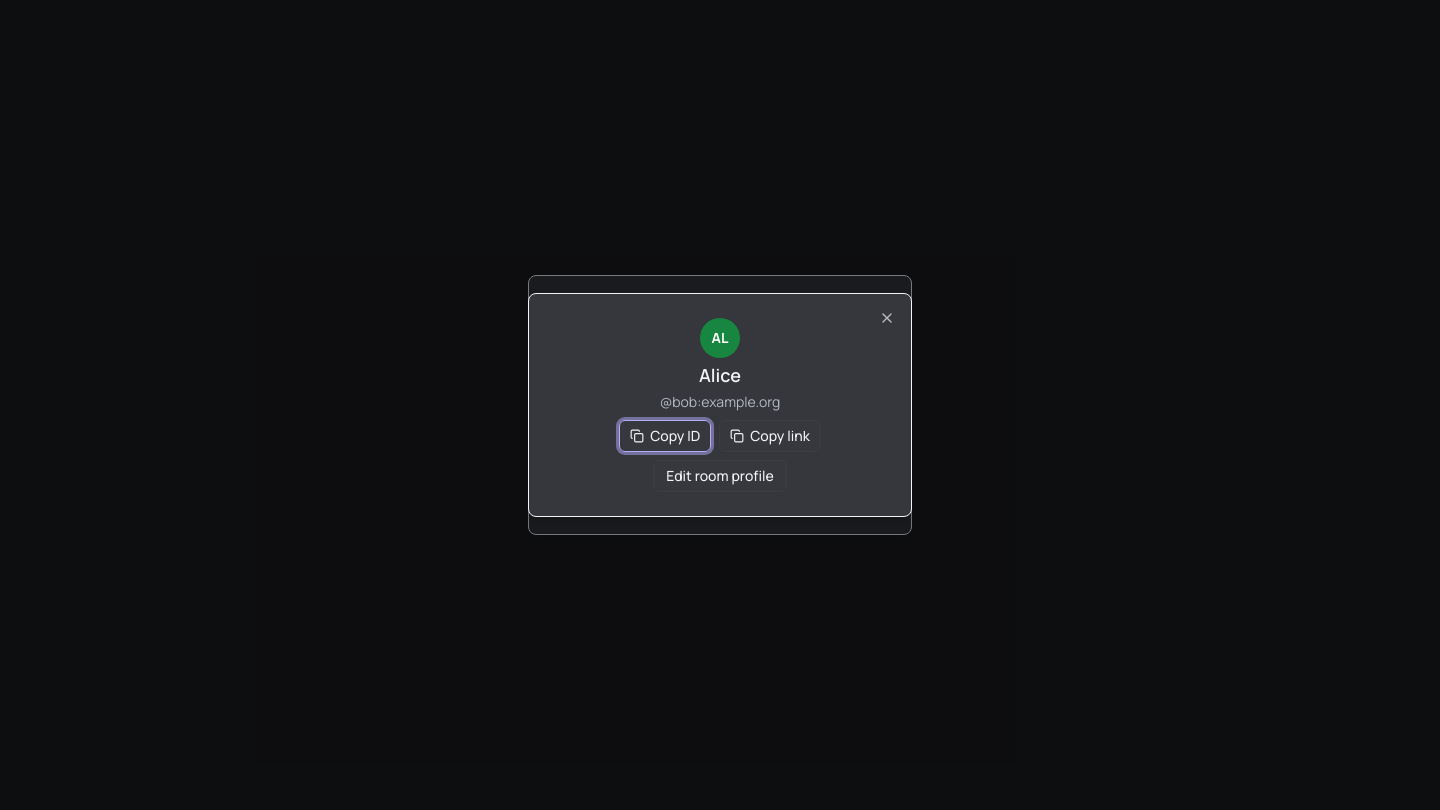
MessagePillProfileDialog › reports profile loading and room-profile update failures
Check: the text "Profile details could not be loaded." is shown, box [609,442,831,462]
Click the button "Edit room profile".
click(720, 476)  # box [653,460,787,492]
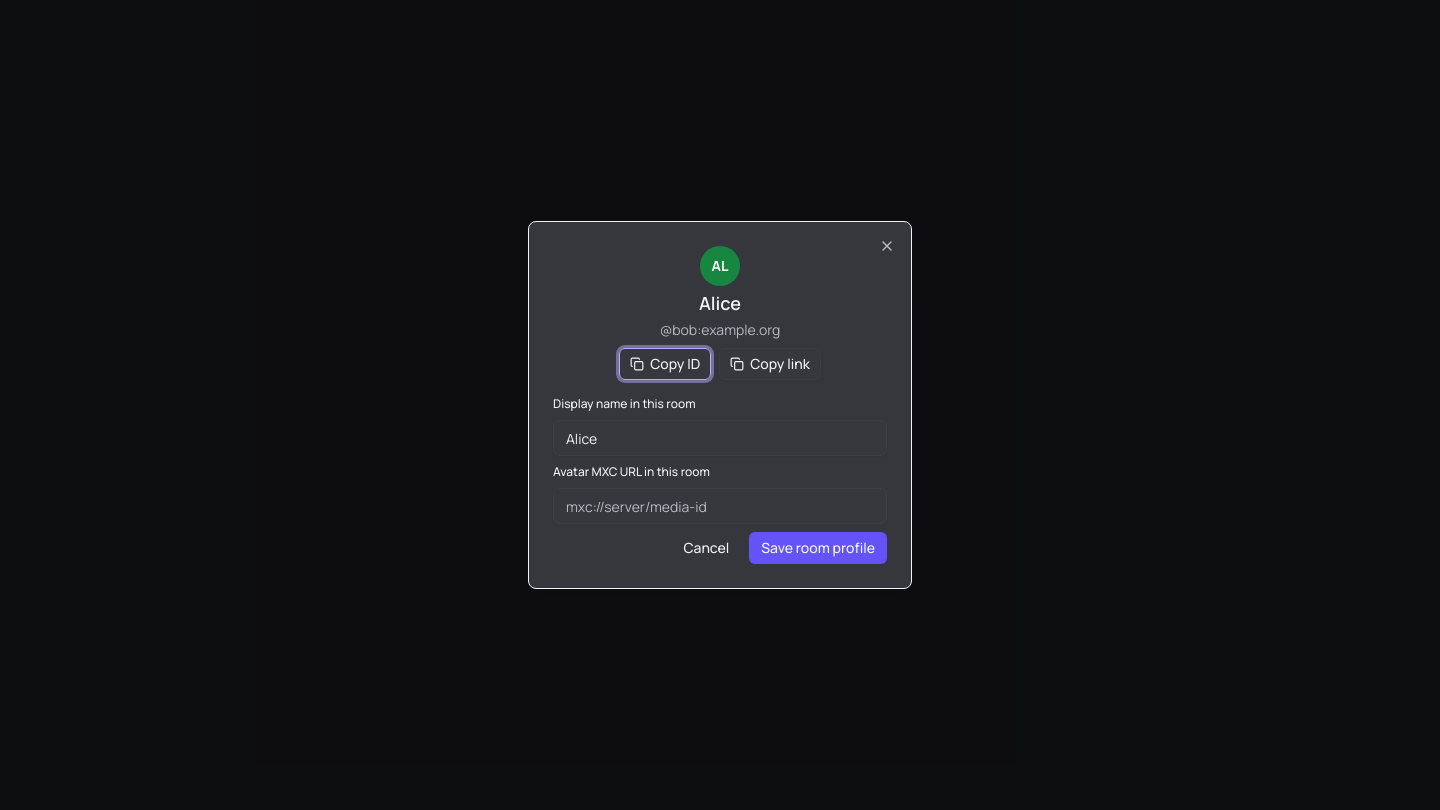
Click the button "Save room profile".
click(818, 548)  # box [749,532,887,564]
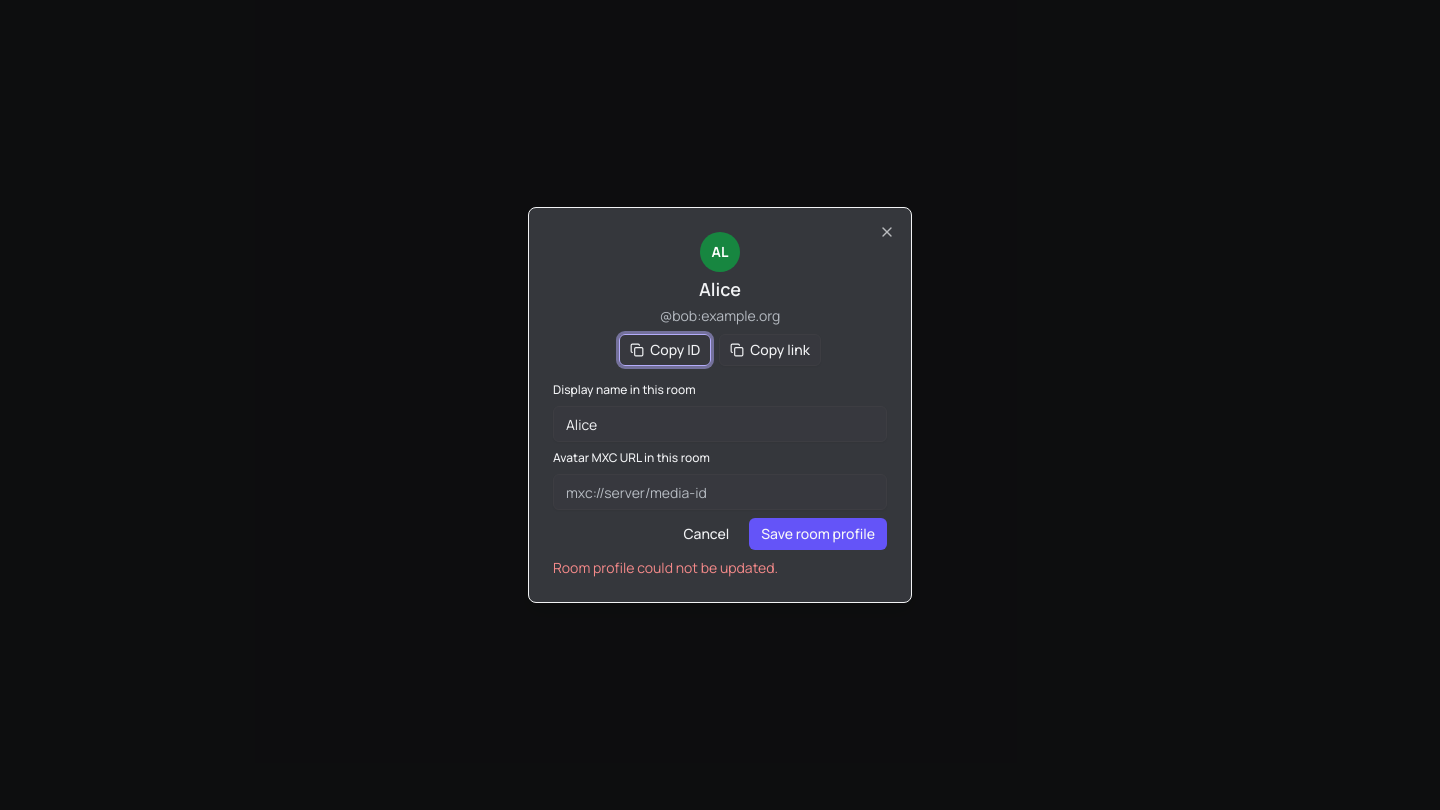
Check: the text "Room profile could not be updated." is shown, box [553,558,778,577]
